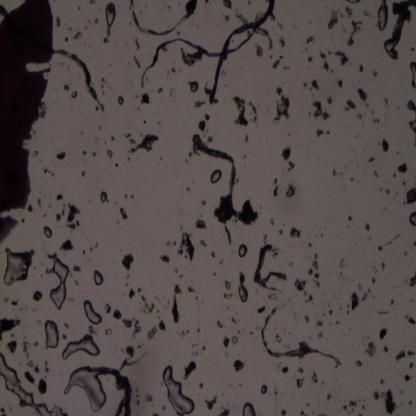Air bubble: (0, 352, 67, 415), (60, 363, 107, 412), (161, 364, 196, 416), (384, 13, 416, 62), (3, 247, 35, 284), (49, 255, 70, 311), (62, 334, 101, 359), (82, 299, 104, 327), (42, 317, 60, 351), (104, 3, 120, 37), (376, 1, 391, 34), (237, 271, 250, 303), (210, 168, 223, 188), (240, 402, 257, 416), (92, 269, 104, 287), (189, 76, 200, 94), (237, 243, 248, 260), (43, 225, 54, 240), (408, 210, 416, 228), (99, 191, 108, 205), (260, 382, 269, 396), (118, 95, 126, 106)
Background material: (372, 387, 400, 414), (127, 134, 159, 157), (136, 286, 158, 317), (274, 88, 291, 127), (177, 47, 203, 71), (177, 231, 196, 262), (308, 251, 322, 291), (232, 94, 248, 128), (65, 202, 82, 231), (0, 316, 23, 336), (171, 282, 181, 325), (347, 19, 362, 47), (312, 100, 331, 122), (344, 291, 360, 315), (220, 277, 235, 302), (120, 250, 136, 272), (406, 99, 416, 134), (58, 235, 76, 254), (202, 393, 220, 412), (182, 360, 198, 381), (334, 49, 350, 68), (293, 277, 308, 297), (132, 318, 144, 341), (403, 187, 416, 208), (272, 378, 279, 416), (357, 85, 371, 104), (364, 340, 377, 360), (232, 358, 247, 374), (249, 101, 258, 127), (376, 327, 391, 342), (288, 226, 304, 240), (23, 369, 36, 386), (270, 177, 280, 199), (37, 378, 49, 396), (329, 12, 341, 30), (343, 97, 358, 111), (401, 313, 416, 327), (123, 132, 137, 147), (26, 359, 40, 374), (6, 338, 19, 354), (72, 28, 86, 42), (132, 382, 140, 406), (147, 324, 159, 340), (285, 184, 297, 200), (409, 61, 416, 88), (195, 217, 208, 231), (386, 234, 401, 246), (118, 204, 129, 220), (281, 146, 292, 162), (309, 79, 322, 92), (144, 391, 156, 405), (158, 254, 172, 266), (268, 290, 280, 304), (315, 127, 331, 137), (20, 340, 30, 356), (322, 60, 332, 76), (196, 120, 208, 133), (139, 92, 151, 105), (394, 350, 406, 363), (229, 314, 243, 325), (255, 44, 265, 59), (123, 316, 133, 331), (100, 77, 107, 98), (396, 163, 408, 175), (132, 36, 141, 52), (408, 271, 416, 289), (194, 98, 206, 110), (339, 257, 350, 270), (272, 56, 283, 69), (122, 192, 136, 202), (170, 86, 180, 100), (296, 376, 306, 390), (344, 6, 354, 20), (364, 221, 374, 235), (183, 150, 191, 167), (312, 368, 320, 385), (349, 396, 358, 411), (33, 290, 44, 302), (353, 358, 364, 370), (286, 160, 296, 173), (53, 152, 66, 162), (216, 408, 232, 416), (133, 54, 141, 70), (42, 168, 56, 177), (71, 264, 82, 275), (222, 0, 233, 11), (176, 328, 191, 336), (113, 309, 123, 321), (382, 139, 390, 154), (278, 35, 286, 50), (87, 325, 97, 337), (70, 88, 79, 101), (216, 318, 225, 331), (159, 319, 168, 332), (223, 334, 231, 348), (257, 305, 267, 316), (333, 168, 344, 178), (305, 35, 317, 44), (127, 288, 136, 300), (164, 241, 177, 249), (282, 362, 290, 375), (54, 16, 62, 29), (305, 294, 315, 304), (338, 402, 347, 413), (187, 284, 196, 295), (42, 359, 49, 373), (376, 309, 388, 317), (56, 192, 64, 204), (358, 63, 366, 75), (104, 302, 111, 315), (205, 110, 212, 123), (198, 240, 208, 249), (30, 150, 40, 159), (314, 319, 324, 328), (382, 344, 390, 355), (26, 204, 34, 215), (232, 334, 240, 345), (54, 213, 63, 222), (106, 150, 114, 160), (10, 300, 20, 308), (280, 406, 288, 416), (107, 131, 115, 141), (275, 334, 282, 345), (211, 269, 220, 277), (73, 276, 79, 288), (62, 84, 71, 92), (35, 318, 43, 327), (105, 328, 113, 337), (0, 403, 6, 415), (102, 36, 110, 45), (156, 85, 164, 94), (304, 313, 310, 325), (37, 197, 42, 211), (382, 260, 387, 274), (369, 154, 376, 164), (403, 375, 413, 382), (81, 168, 87, 179), (338, 79, 344, 90), (184, 185, 192, 193), (94, 137, 101, 146), (321, 52, 328, 61), (326, 392, 332, 402), (362, 291, 368, 301), (88, 0, 98, 6), (406, 350, 416, 356), (207, 136, 214, 144), (346, 214, 353, 222), (176, 30, 183, 38), (32, 340, 39, 348), (21, 303, 28, 311), (298, 367, 306, 374), (318, 332, 325, 340), (94, 240, 100, 249), (84, 22, 90, 31), (244, 133, 249, 143), (360, 403, 366, 411), (328, 309, 334, 317), (201, 198, 207, 206), (334, 318, 340, 326), (210, 250, 216, 258), (3, 296, 9, 304), (92, 150, 98, 158), (89, 246, 95, 254), (21, 218, 27, 226), (358, 282, 363, 291), (191, 352, 200, 357), (171, 65, 176, 74), (309, 55, 314, 64), (308, 241, 314, 248), (379, 378, 385, 385), (300, 409, 306, 416), (390, 299, 396, 306), (64, 36, 70, 43), (66, 25, 72, 32), (367, 235, 372, 243), (82, 149, 87, 157), (289, 260, 294, 268), (279, 228, 284, 236), (410, 362, 415, 370), (270, 218, 275, 226), (66, 320, 70, 330), (218, 259, 224, 265), (94, 105, 100, 111), (133, 108, 142, 112), (43, 209, 47, 218), (248, 331, 255, 336), (94, 17, 99, 24), (62, 333, 67, 340), (39, 272, 44, 279), (317, 413, 328, 416), (152, 412, 160, 416), (98, 123, 102, 131), (372, 277, 376, 285), (244, 154, 249, 160), (180, 274, 185, 280), (385, 188, 390, 194), (124, 282, 129, 288), (125, 274, 130, 280), (205, 0, 210, 6), (196, 326, 200, 333), (174, 267, 178, 274), (82, 249, 86, 256), (202, 347, 207, 352), (379, 246, 384, 251), (142, 120, 147, 125), (358, 411, 363, 416), (69, 297, 74, 302), (200, 384, 204, 390), (320, 232, 324, 238), (413, 240, 416, 247), (156, 122, 161, 126), (404, 252, 408, 257), (368, 288, 372, 293), (169, 5, 172, 11), (195, 295, 198, 300), (77, 5, 80, 10), (42, 261, 44, 267), (115, 164, 118, 167), (192, 345, 198, 346)
Cellulose filter fibre: (261, 304, 343, 368), (192, 135, 249, 222), (53, 46, 104, 111), (129, 0, 195, 37), (255, 240, 290, 287), (106, 366, 135, 416), (118, 350, 152, 371), (224, 220, 235, 256)
Cotton: (136, 0, 277, 105)
Pen: (0, 0, 55, 248)
